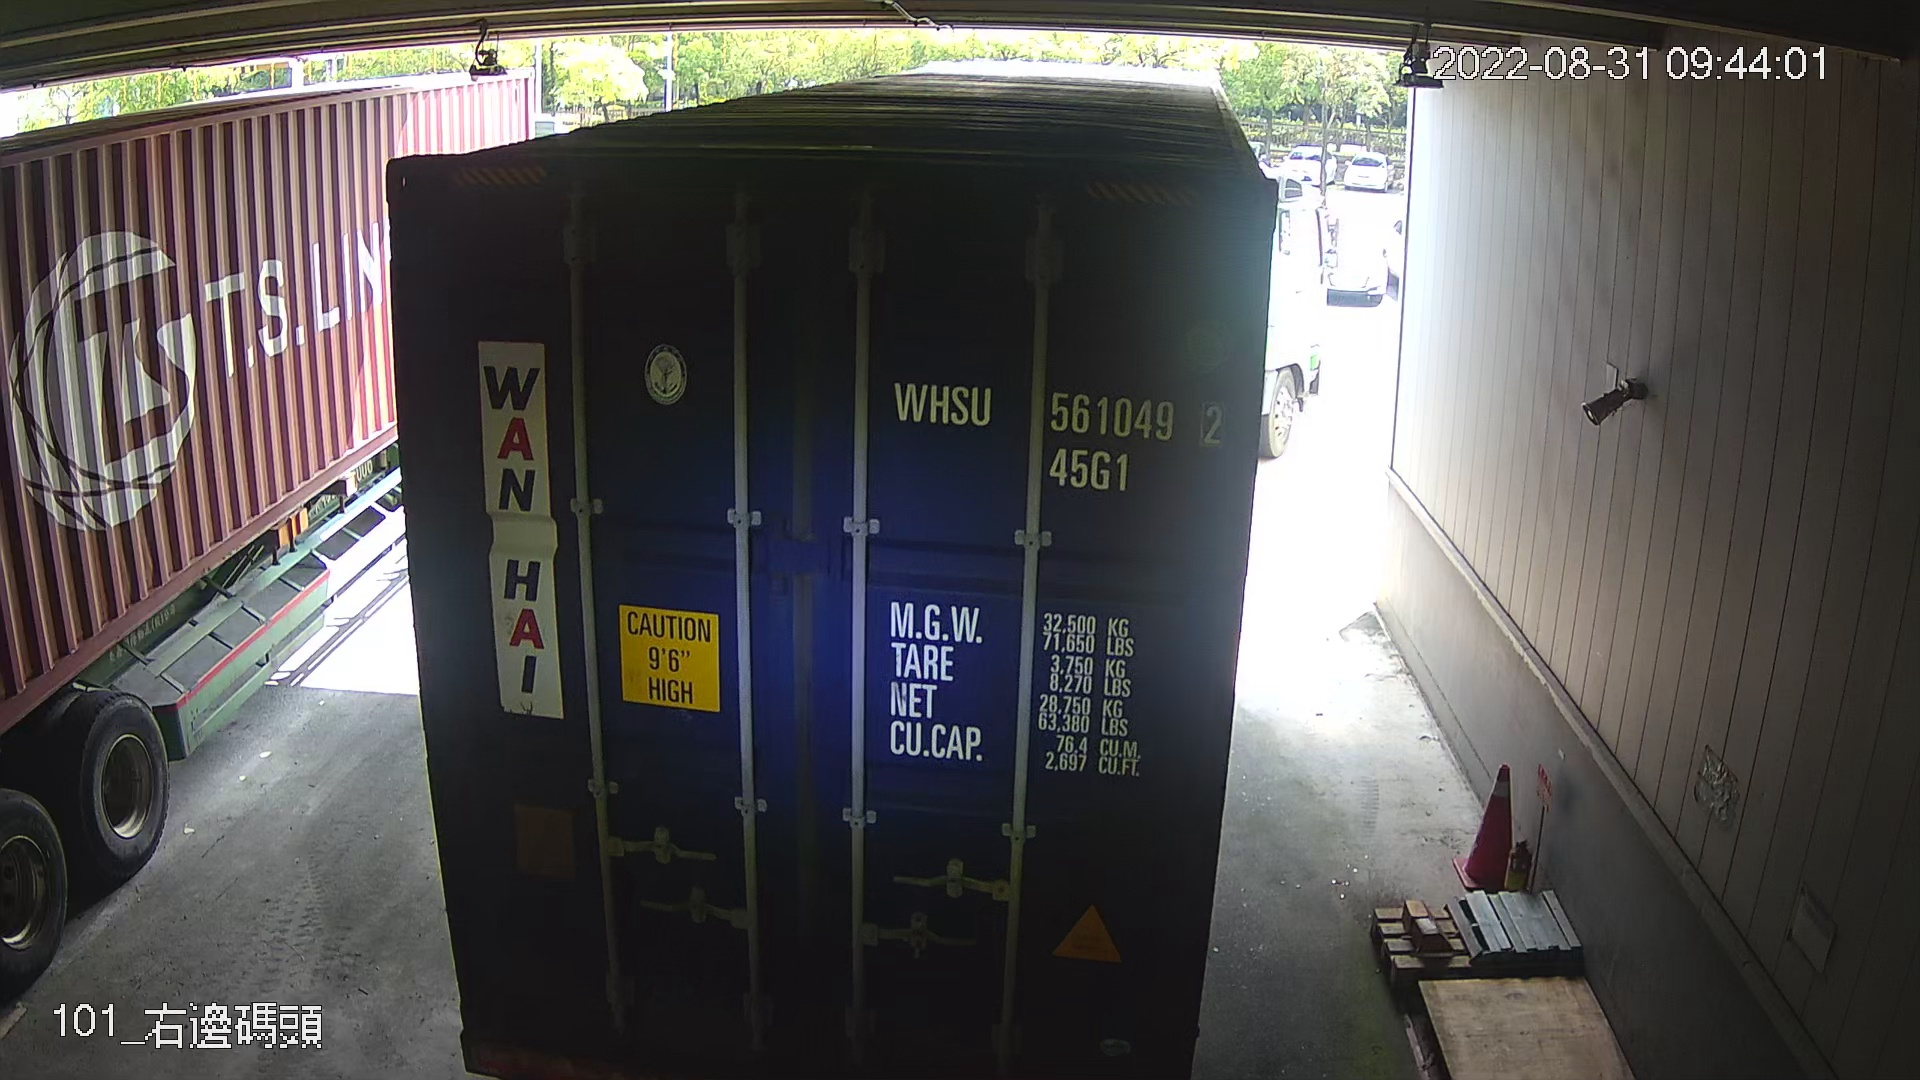container: (878, 360, 1240, 504)
